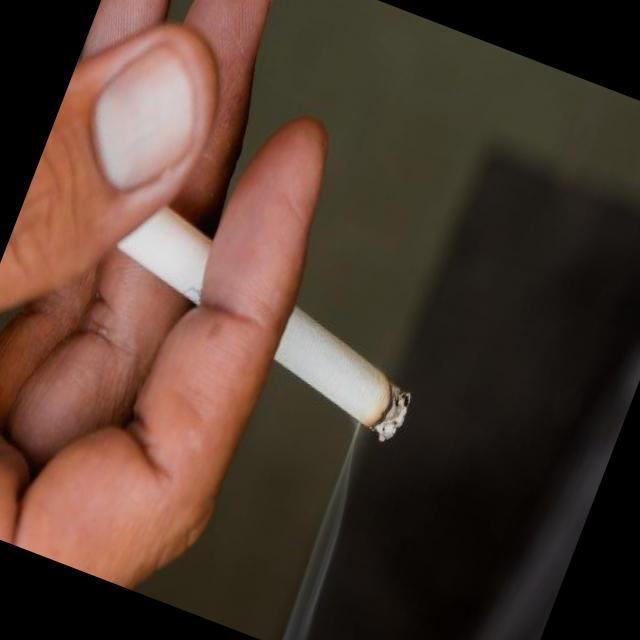cigarette: (244, 290, 436, 452)
